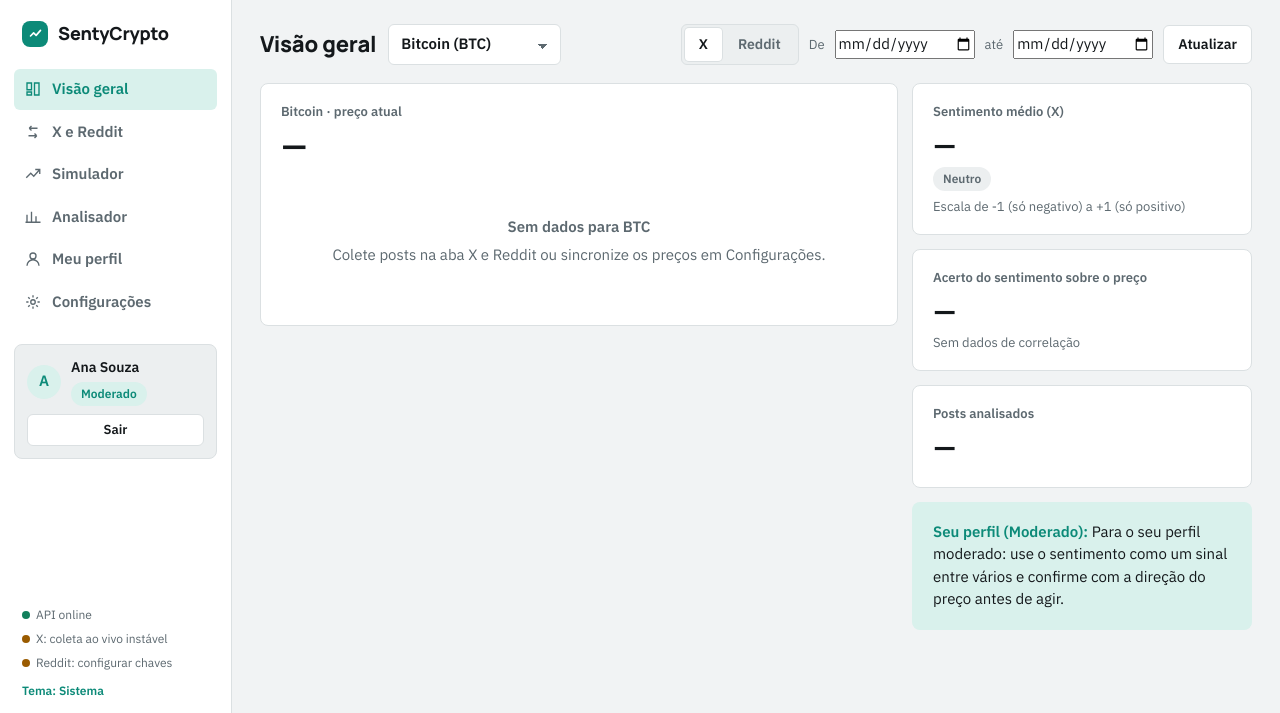
Test: acesso › sair apaga a sessão e volta à Visão geral
The image size is (1280, 713).
Click the button "Sair" at (116, 430), box [27, 414, 204, 446]
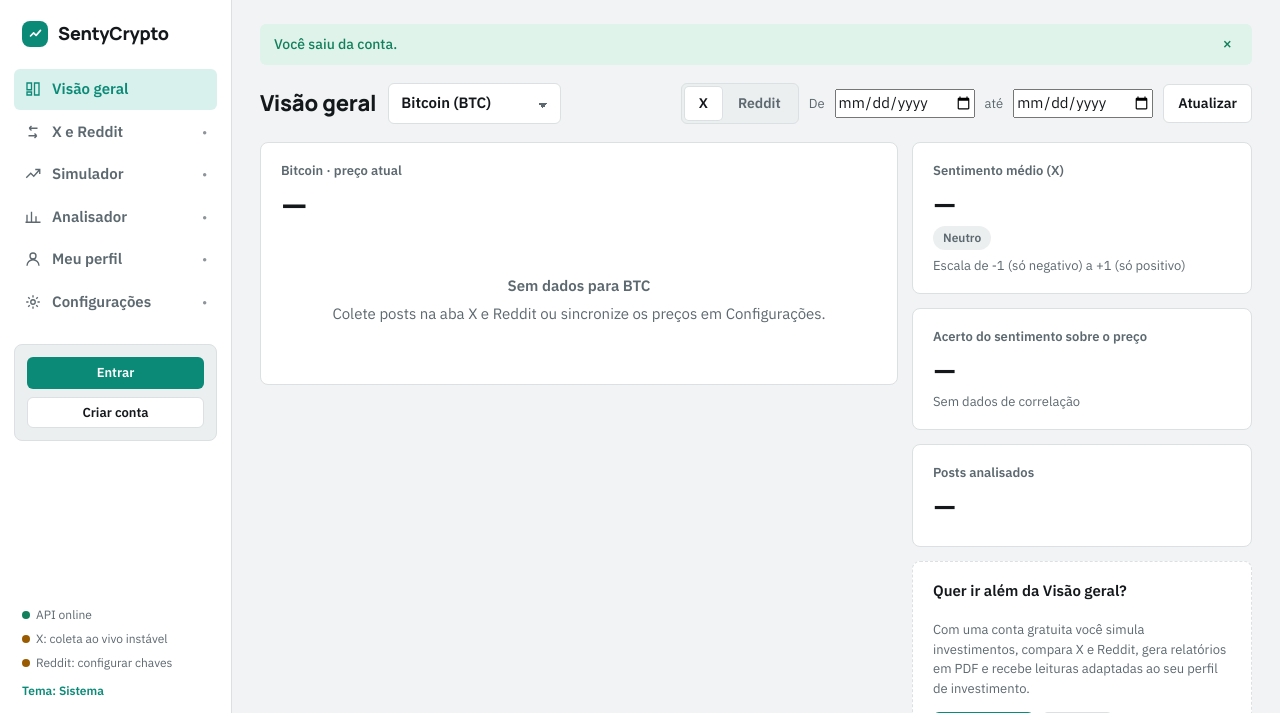
Expected: the heading "Quer ir além da Visão geral?" is shown, [933, 580, 1127, 600]
